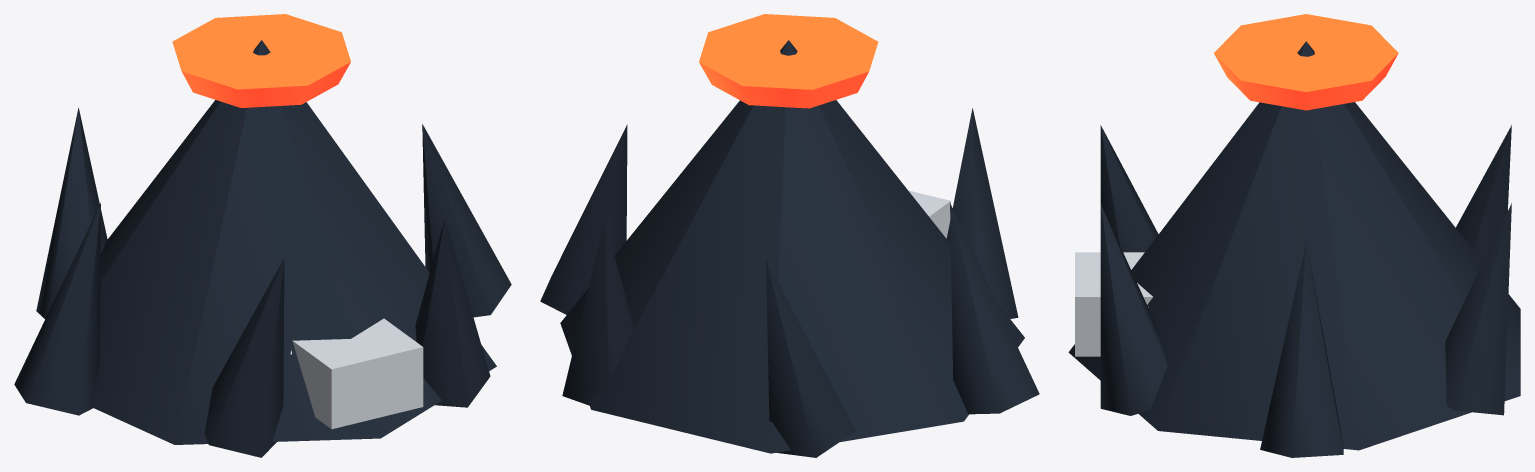
The model's file is monster_lair.glb.
3 views of the same model, side by side, from view 1: azimuth 30°, elevation 25°; view 2: azimuth 150°, elevation 25°; view 3: azimuth 270°, elevation 25° (orthographic).
Parts seen in each view (by area): view 1: Monster_Lair; view 2: Monster_Lair; view 3: Monster_Lair.
Part boxes in pixels (x1,y1,x2,y2): Monster_Lair: (14,14,511,457); Monster_Lair: (540,14,1039,457); Monster_Lair: (1068,14,1520,457).
Bounding box in the file's own units: 8.48 × 5.32 × 6.84.
